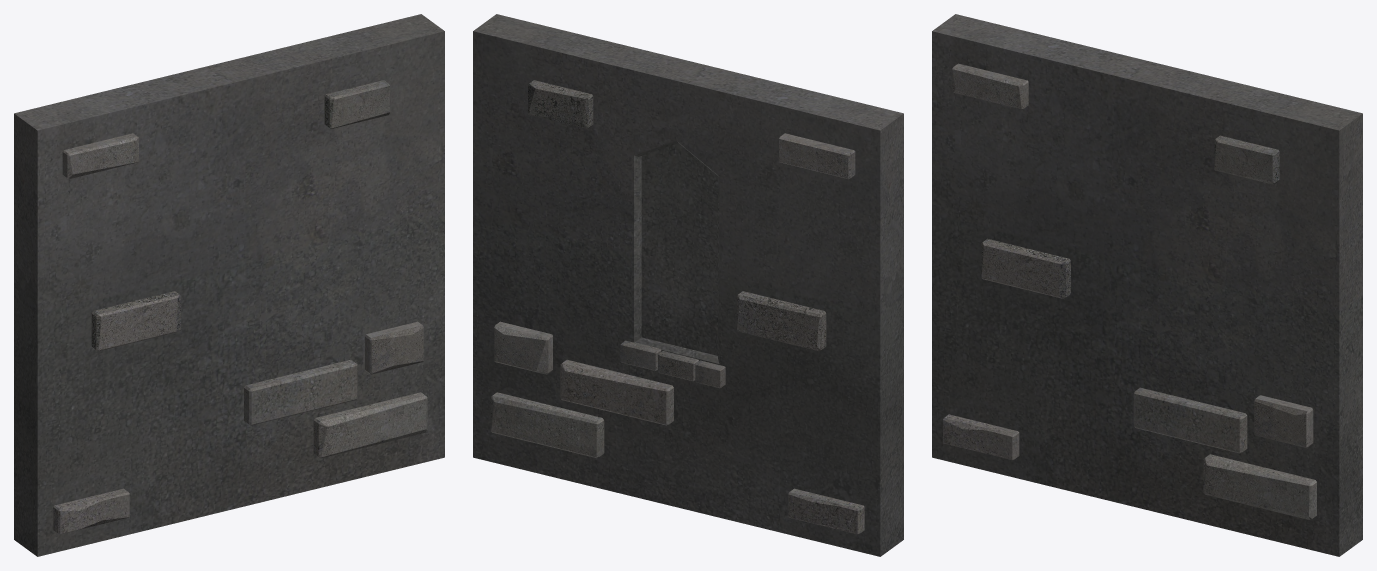
File: Wall2.fbx
3 views of the same model, side by side, from view 1: azimuth 30°, elevation 25°; view 2: azimuth 150°, elevation 25°; view 3: azimuth 330°, elevation 25° (orthographic).
Visible parts, largest first — view 1: Wall2; view 2: Wall2; view 3: Wall2.
Boxes of the visible parts, left/top/right/bottom form: Wall2: left=14, top=14, right=444, bottom=556; Wall2: left=473, top=14, right=903, bottom=556; Wall2: left=932, top=14, right=1362, bottom=556.
Size of the model in its own units: 3 by 3 by 0.4952.
1 material, 1 textured.
